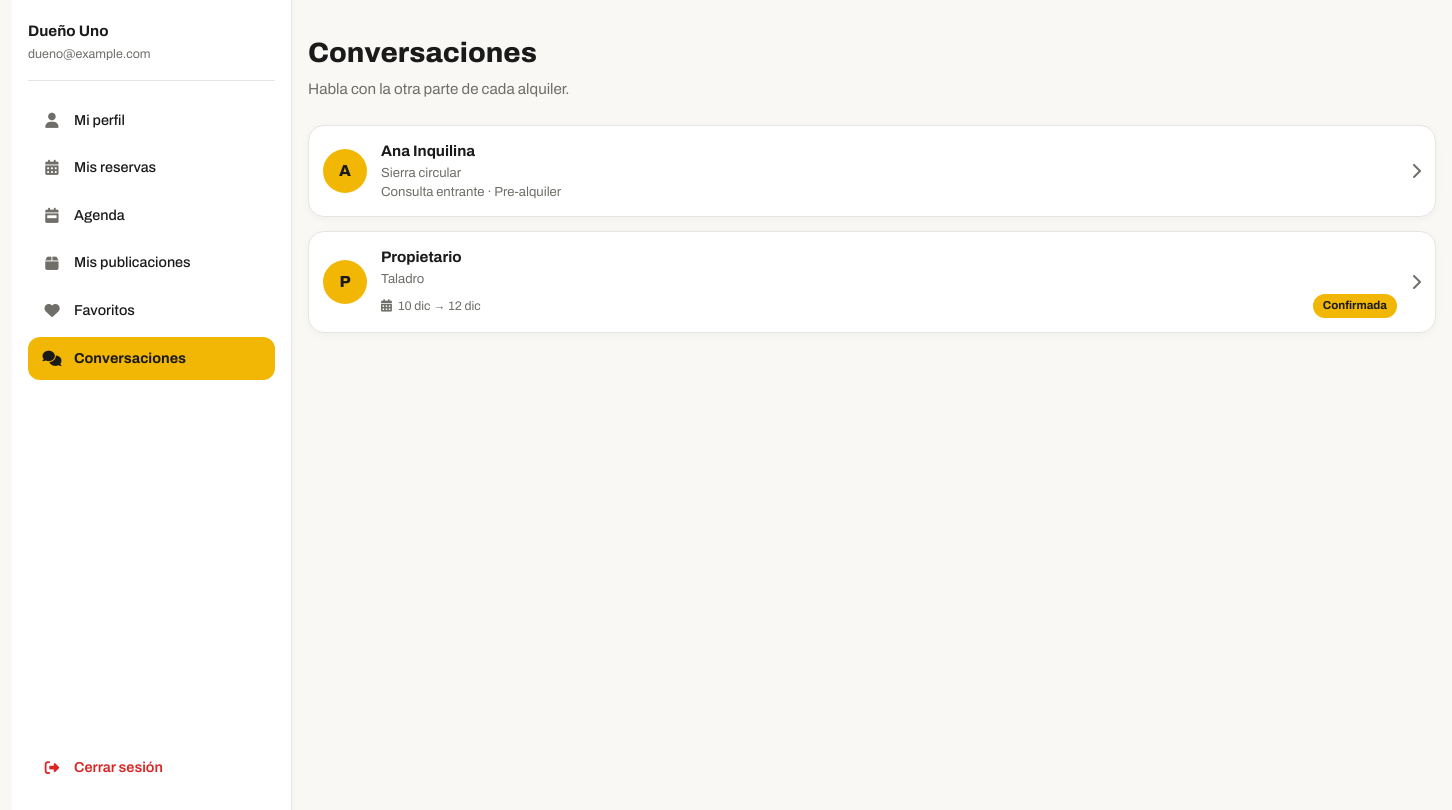
Test: Dashboard — consultas entrantes › combina reservas y consultas, identifica la entrante y abre su chat
Expected: the heading "Conversaciones" is shown, [308,37,537,68]
Expected: the text "Consulta entrante · Pre-alquiler" is shown, [381,184,561,199]
Click the button with aria-label "Consulta entrante · Pre-alquiler con Ana Inquilina sobre Sie" at (345, 171), box [308,125,1436,217]
(page scrolled)
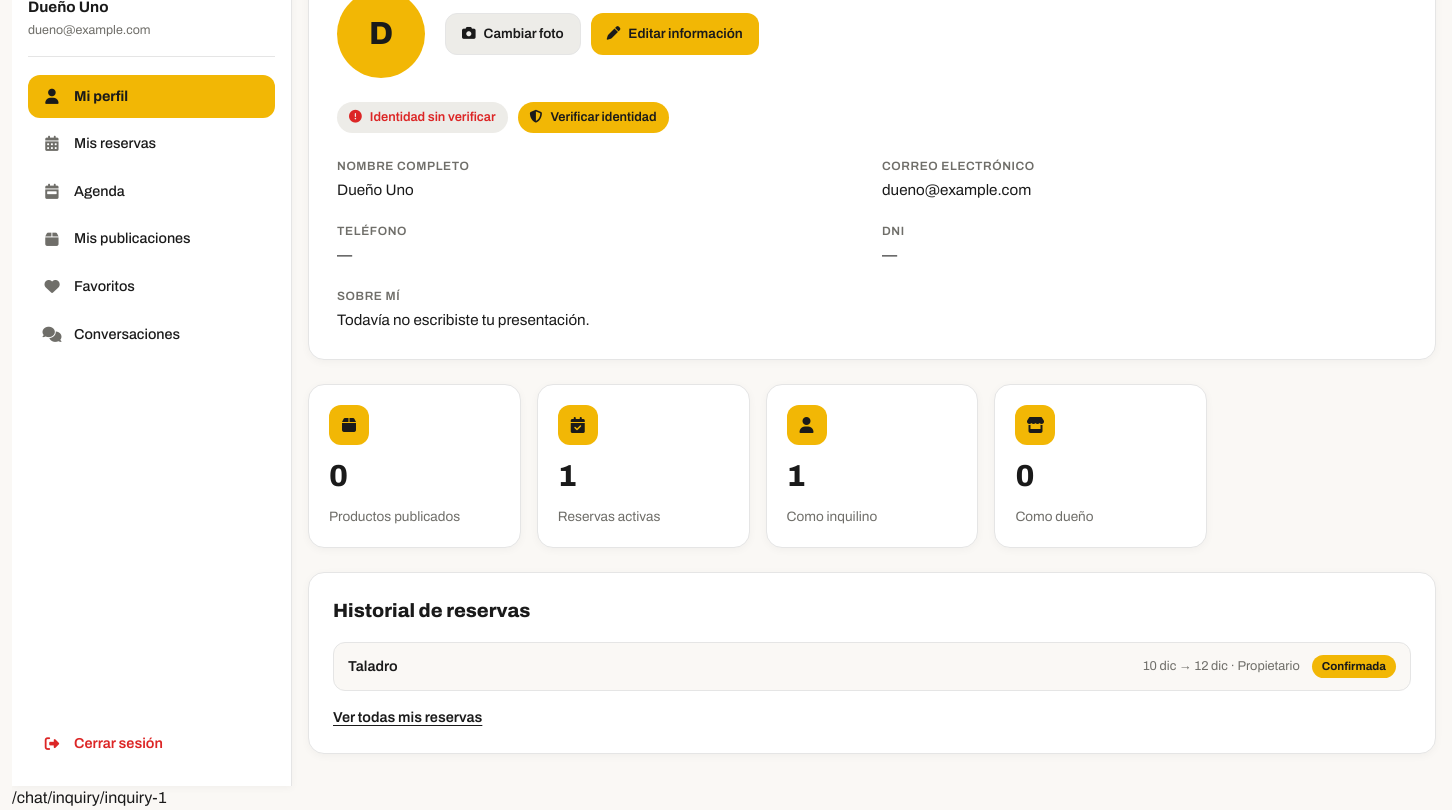
Result: the text with test id "location" reads "/chat/inquiry/inquiry-1" at [12,789,166,806]
